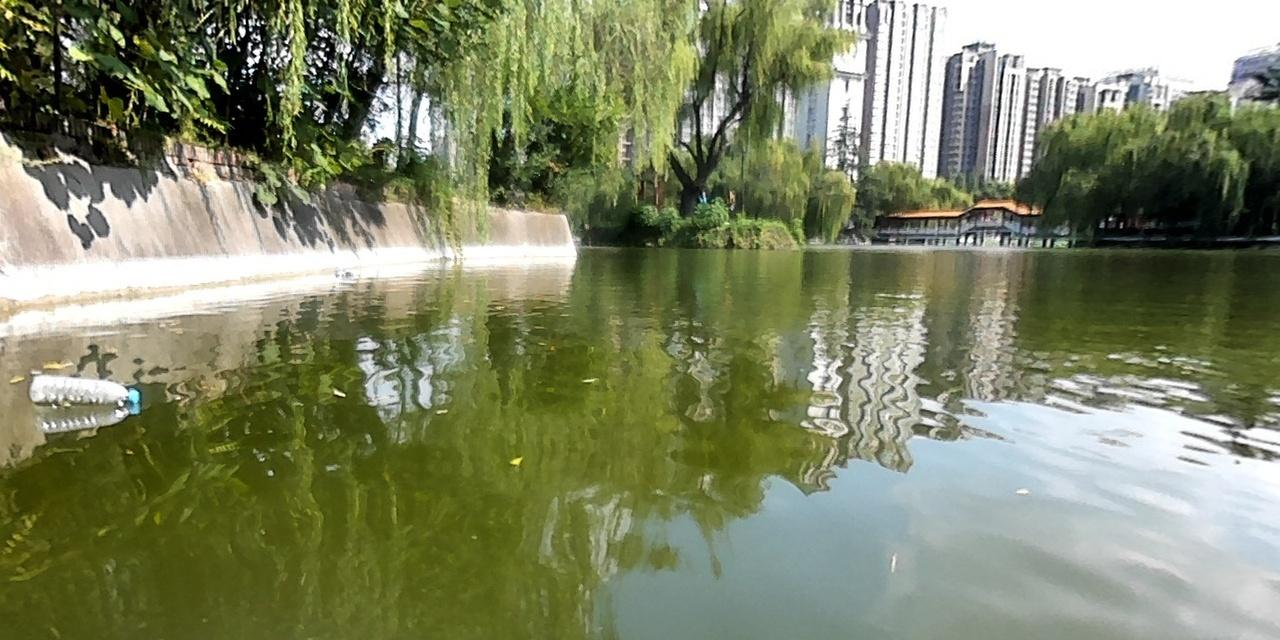bottle: (28, 374, 137, 406), (334, 267, 360, 280)
